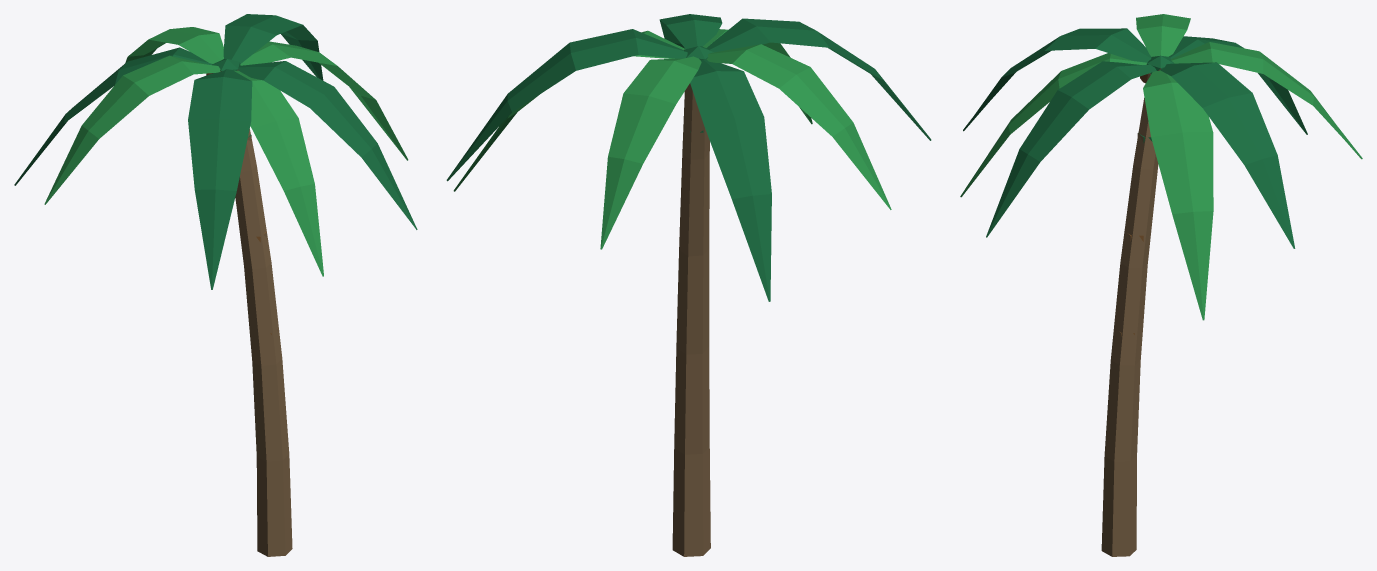
File: Palmera B.fbx
The picture shows the model from 3 angles, left to right: view 1: azimuth 30°, elevation 25°; view 2: azimuth 150°, elevation 25°; view 3: azimuth 270°, elevation 25°; orthographic projection. The views are drawn at different scales.
Visible parts, largest first — view 1: Palmera B; view 2: Palmera B; view 3: Palmera B.
Part boxes in pixels (x1,y1,x2,y2): Palmera B: [14, 14, 417, 556]; Palmera B: [446, 14, 931, 556]; Palmera B: [960, 14, 1362, 556].
Size of the model in its own units: 2.12 by 2.61 by 1.94.
